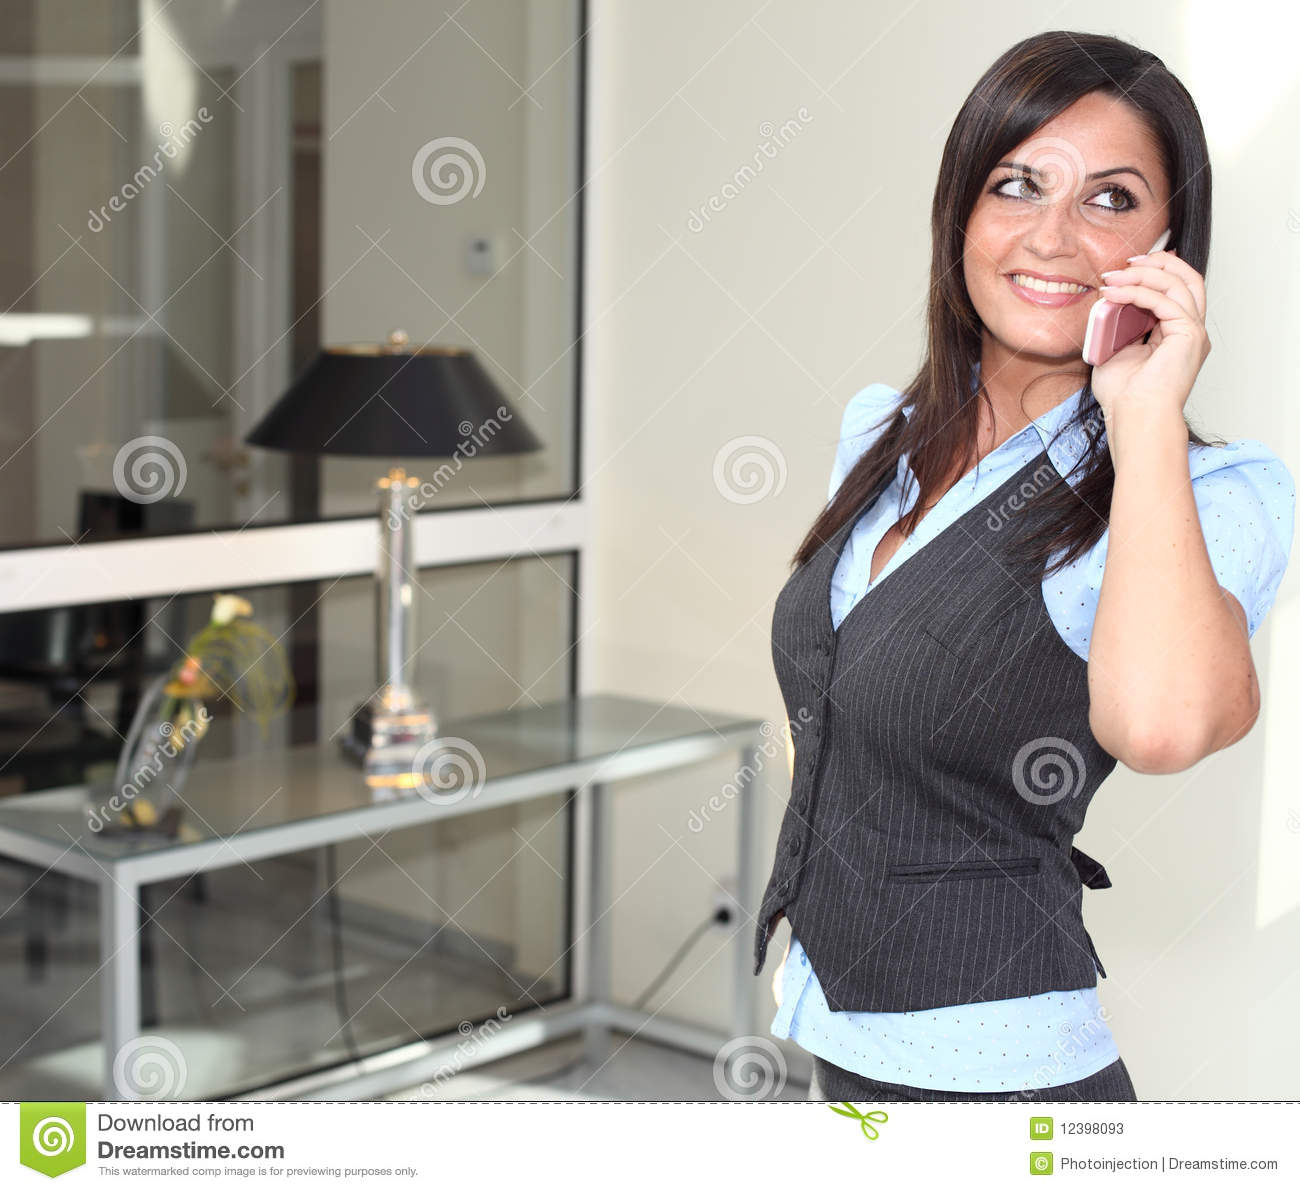phone: (1093, 228, 1217, 360)
talk: (952, 153, 1220, 439)
